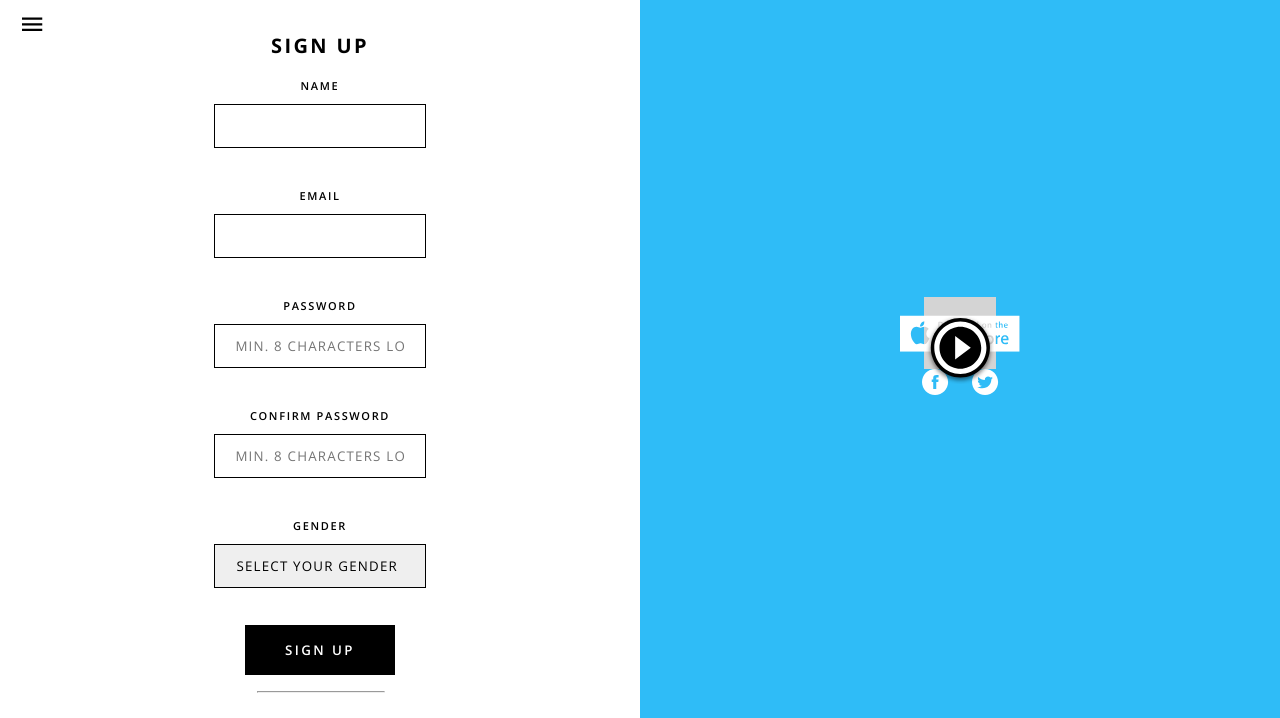
Test: SignUp.jsx Tests › Form validation for empty fields :)
Expected: the heading "SIGN UP" is shown, top-left (271, 32), bottom-right (369, 59)
Click the button "Sign Up": coordinates (320, 650) top-left (245, 625), bottom-right (395, 675)
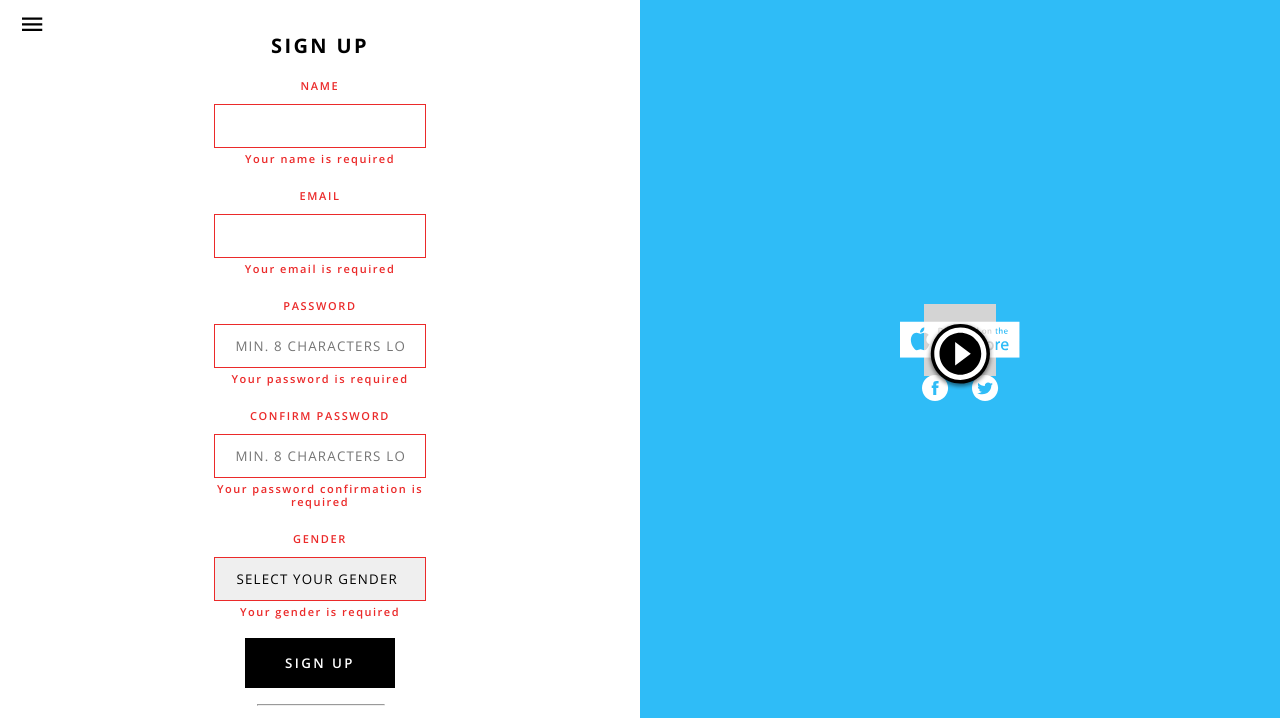
Expected: the text "Your name is required" is shown, top-left (245, 151), bottom-right (395, 166)
Expected: the text "Your email is required" is shown, top-left (245, 261), bottom-right (395, 276)
Expected: the text "Your password is required" is shown, top-left (231, 371), bottom-right (408, 386)
